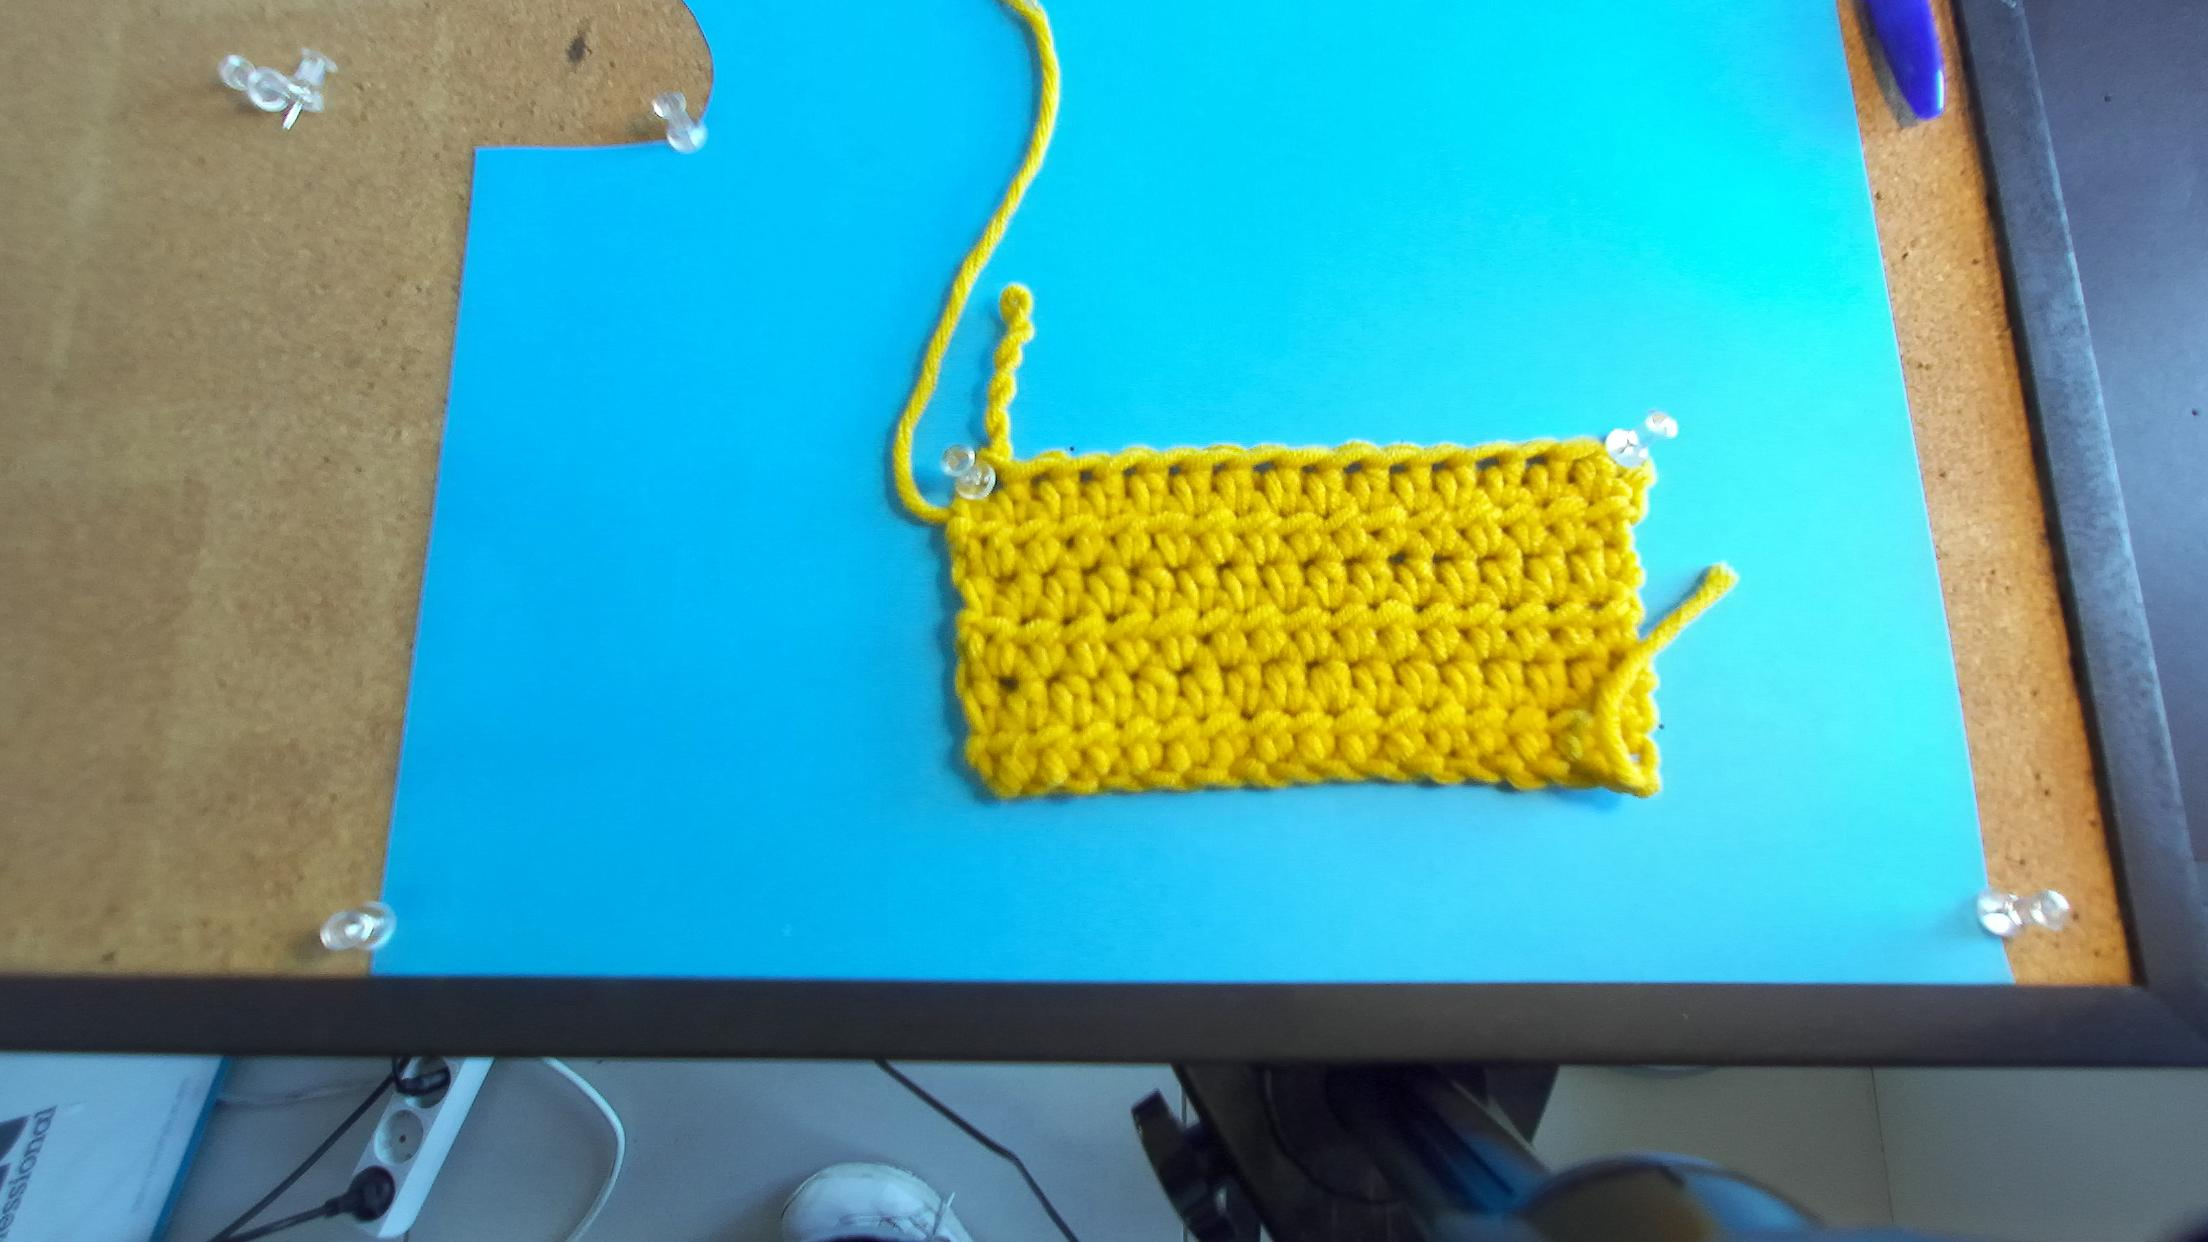hole: (1474, 455, 1501, 472), (1251, 459, 1275, 476), (1524, 453, 1548, 470), (1030, 470, 1051, 487), (1388, 461, 1412, 475), (1342, 459, 1363, 475), (1210, 461, 1228, 478), (990, 473, 1005, 493), (1300, 463, 1319, 475), (1168, 463, 1183, 478), (1078, 469, 1092, 484), (1122, 466, 1137, 478), (1432, 459, 1447, 472)
swatch: (939, 425, 1665, 807)
